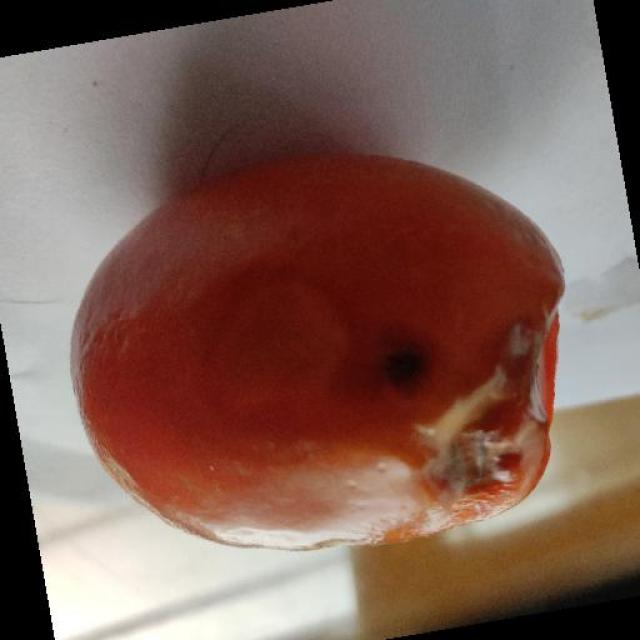Stale_tomato: (107, 232, 569, 544)
